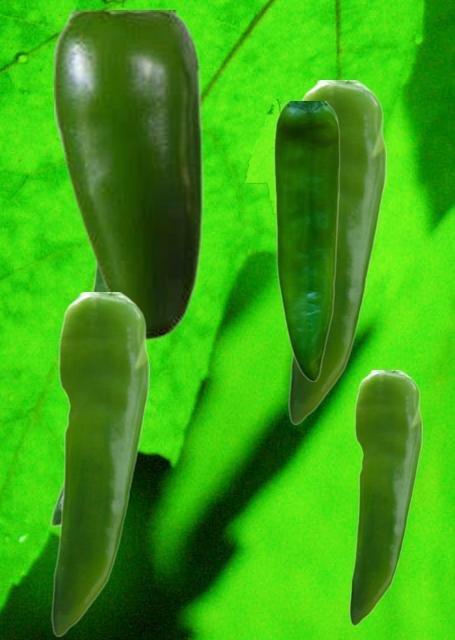green_chili: (54, 10, 202, 340), (288, 80, 385, 423), (51, 292, 148, 635), (273, 101, 339, 380), (349, 370, 421, 624), (49, 262, 105, 526)
